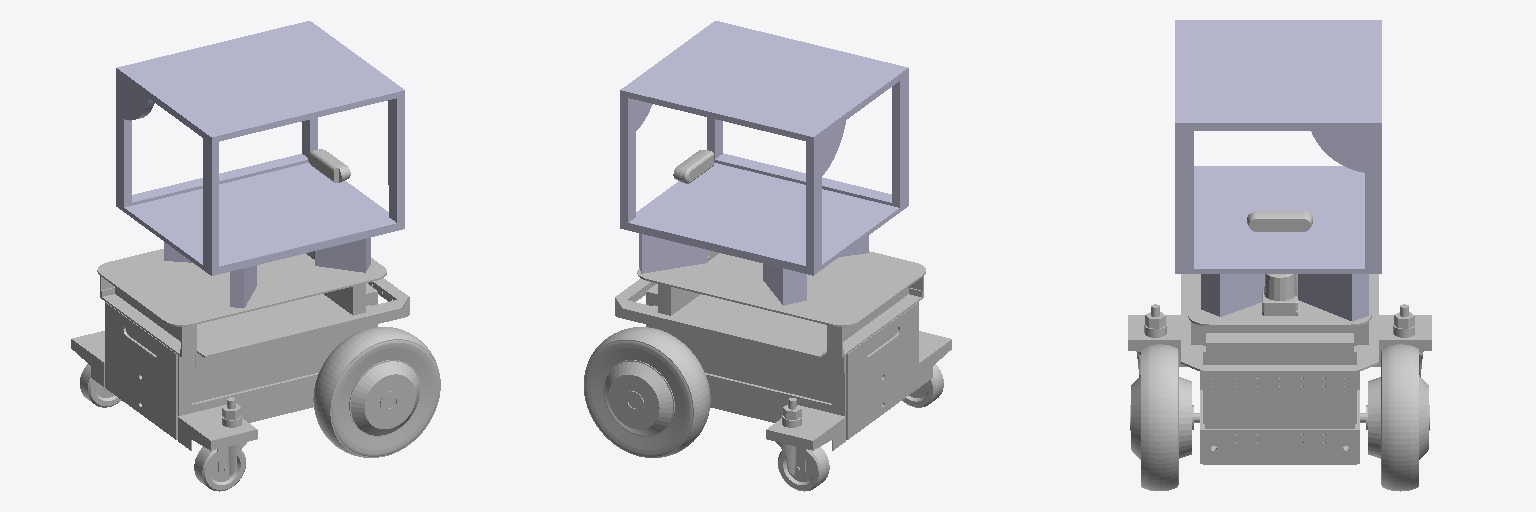
robot.urdf — krytn:
<?xml version="1.0" ?>
<robot name="krytn">
  <!--Generated by CROSS, a ROS Workbench for FreeCAD (https://github.com/galou/freecad.cross)-->
  <link name="base_footprint">
    <visual>
      <!--visual_base_footprint-->
      <origin rpy="0.0 -0.0 0.0" xyz="0.0 0.0 0.0"/>
      <geometry>
        <mesh filename="package://Krytn_tray/meshes/Krytn_tray_ex_visual_base_footprint_.dae"/>
      </geometry>
    </visual>
    <collision>
      <!--collision_base_footprint-->
      <origin rpy="0.0 -0.0 0.0" xyz="0.0 0.0 0.0"/>
      <geometry>
        <mesh filename="package://Krytn_tray/meshes/Krytn_tray_ex_collision_base_footprint_.dae"/>
      </geometry>
    </collision>
    <inertial>
      <mass value="0.0"/>
      <origin rpy="0.0 -0.0 0.0" xyz="0.0 0.0 0.0"/>
      <inertia ixx="0.0" ixy="0.0" ixz="0.0" iyy="0.0" iyz="0.0" izz="0.0"/>
    </inertial>
  </link>
  <link name="base_link">
    <visual>
      <!--visual_base_link/base_link_visual.-->
      <origin rpy="0.0 -0.0 0.0" xyz="-0.11 0.0 -0.029"/>
      <geometry>
        <mesh filename="package://Krytn_tray/meshes/Krytn_tray_ex_magni_body.dae.dae"/>
      </geometry>
    </visual>
    <collision>
      <!--collision_base_link/base_link_collision.-->
      <origin rpy="0.0 -0.0 0.0" xyz="-0.11 0.0 0.051"/>
      <geometry>
        <box size="0.398 0.268 0.16"/>
      </geometry>
    </collision>
    <collision>
      <!--collision_base_link/base_link_collision001.-->
      <origin rpy="0.0 -0.0 0.0" xyz="-0.136 0.0 0.148"/>
      <geometry>
        <box size="0.375 0.268 0.034"/>
      </geometry>
    </collision>
    <collision>
      <!--collision_base_link/base_link_collision002.-->
      <origin rpy="0.0 -0.0 0.0" xyz="-0.279 0.169 0.006"/>
      <geometry>
        <box size="0.1 0.07 0.07"/>
      </geometry>
    </collision>
    <collision>
      <!--collision_base_link/base_link_collision003.-->
      <origin rpy="0.0 -0.0 0.0" xyz="-0.279 -0.169 0.006"/>
      <geometry>
        <box size="0.1 0.07 0.07"/>
      </geometry>
    </collision>
    <inertial>
      <mass value="10.0"/>
      <origin rpy="0.0 -0.0 0.0" xyz="-0.15 0.0 0.03"/>
      <inertia ixx="0.059450809553" ixy="0.0" ixz="0.0" iyy="0.150753273032" iyz="0.0" izz="0.17270409758500002"/>
    </inertial>
  </link>
  <link name="left_wheel">
    <visual>
      <!--visual_left_wheel/left_wheel_visual.-->
      <origin rpy="0.0 -1.5707963267948966 0.0" xyz="-1.57652e-17 0.0 -0.071"/>
      <geometry>
        <mesh filename="package://Krytn_tray/meshes/Krytn_tray_ex_front_wheel.dae.dae"/>
      </geometry>
    </visual>
    <collision>
      <!--collision_left_wheel/left_wheel_collision.-->
      <origin rpy="0.0 -0.0 0.0" xyz="7.32747e-18 0.0 0.033"/>
      <geometry>
        <cylinder length="0.01" radius="0.1"/>
      </geometry>
    </collision>
    <inertial>
      <mass value="1.34"/>
      <origin rpy="-0.0 1.5707963267948966 0.0" xyz="0.0 0.0 0.0"/>
      <inertia ixx="0.003629165215000001" ixy="0.0" ixz="0.0" iyy="0.003629165215000001" iyz="0.0" izz="0.006700000000000001"/>
    </inertial>
  </link>
  <link name="right_wheel">
    <visual>
      <!--visual_right_wheel/right_wheel_visual.-->
      <origin rpy="-0.0 1.5707963267948961 0.0" xyz="1.57652e-17 0.0 0.071"/>
      <geometry>
        <mesh filename="package://Krytn_tray/meshes/Krytn_tray_ex_front_wheel.dae.dae"/>
      </geometry>
    </visual>
    <collision>
      <!--collision_right_wheel/right_wheel_collision.-->
      <origin rpy="0.0 -0.0 0.0" xyz="-7.32747e-18 0.0 -0.033"/>
      <geometry>
        <cylinder length="0.01" radius="0.1"/>
      </geometry>
    </collision>
    <inertial>
      <mass value="1.34"/>
      <origin rpy="-0.0 1.5707963267948966 0.0" xyz="0.0 0.0 0.0"/>
      <inertia ixx="0.003629165215000001" ixy="0.0" ixz="0.0" iyy="0.003629165215000001" iyz="0.0" izz="0.006700000000000001"/>
    </inertial>
  </link>
  <link name="left_caster_wheel">
    <visual>
      <!--visual_left_caster_wheel/left_caster_wheel_visual.-->
      <origin rpy="0.0 -0.0 3.141592653589793" xyz="-0.25 0.169 0.0"/>
      <geometry>
        <mesh filename="package://Krytn_tray/meshes/Krytn_tray_ex_caster_wheel.dae.dae"/>
      </geometry>
    </visual>
    <collision>
      <!--collision_left_caster_wheel/left_caster_wheel_collision.-->
      <geometry>
        <sphere radius="0.04"/>
      </geometry>
    </collision>
    <inertial>
      <mass value="0.0"/>
      <origin rpy="0.0 -0.0 0.0" xyz="0.0 0.0 0.0"/>
      <inertia ixx="0.0" ixy="0.0" ixz="0.0" iyy="0.0" iyz="0.0" izz="0.0"/>
    </inertial>
  </link>
  <link name="right_caster_wheel">
    <visual>
      <!--visual_right_caster_wheel/right_caster_wheel_visual.-->
      <origin rpy="0.0 -0.0 3.141592653589793" xyz="-0.25 -0.169 0.0"/>
      <geometry>
        <mesh filename="package://Krytn_tray/meshes/Krytn_tray_ex_caster_wheel.dae.dae"/>
      </geometry>
    </visual>
    <collision>
      <!--collision_right_caster_wheel/right_caster_wheel_collision.-->
      <geometry>
        <sphere radius="0.04"/>
      </geometry>
    </collision>
    <inertial>
      <mass value="0.0"/>
      <origin rpy="0.0 -0.0 0.0" xyz="0.0 0.0 0.0"/>
      <inertia ixx="0.0" ixy="0.0" ixz="0.0" iyy="0.0" iyz="0.0" izz="0.0"/>
    </inertial>
  </link>
  <link name="realsense_link">
    <visual>
      <!--visual_realsense_link/realsense_link_visual.-->
      <origin rpy="0.0 -0.0 1.5707963267948966" xyz="0.0 0.0 0.0"/>
      <geometry>
        <mesh filename="package://Krytn_tray/meshes/Krytn_tray_ex_realsense.dae.dae"/>
      </geometry>
    </visual>
    <collision>
      <!--collision_realsense_link/realsense_link_collision.-->
      <origin rpy="0.0 -0.0 1.5707963267948966" xyz="0.0 0.0 0.0"/>
      <geometry>
        <mesh filename="package://Krytn_tray/meshes/Krytn_tray_ex_realsense.dae.dae"/>
      </geometry>
    </collision>
    <inertial>
      <mass value="0.06"/>
      <origin rpy="0.0 -0.0 0.0" xyz="-0.15 0.0 0.03"/>
      <inertia ixx="5.04999798e-05" ixy="0.0" ixz="0.0" iyy="2.499999e-06" iyz="0.0" izz="5.19999792e-05"/>
    </inertial>
  </link>
  <link name="lidar_2d_link">
    <visual>
      <!--visual_lidar_2d_link/lidar_2d_link_visual.-->
      <origin rpy="0.0 -0.0 0.0" xyz="0.0 0.0 0.0"/>
      <geometry>
        <mesh filename="package://Krytn_tray/meshes/Krytn_tray_ex_lidar_2d_v1.dae.dae"/>
      </geometry>
    </visual>
    <collision>
      <!--collision_lidar_2d_link/lidar_2d_link_collision.-->
      <origin rpy="0.0 -0.0 0.0" xyz="0.0 0.0 0.0"/>
      <geometry>
        <box size="0.05001062 0.05001062 0.035003035"/>
      </geometry>
    </collision>
    <collision>
      <!--collision_lidar_2d_link/lidar_2d_link_collision001.-->
      <origin rpy="0.0 -0.0 0.0" xyz="0.0 0.0 0.0"/>
      <geometry>
        <cylinder length="0.035003035" radius="0.02"/>
      </geometry>
    </collision>
    <inertial>
      <mass value="0.13"/>
      <origin rpy="0.0 -0.0 0.0" xyz="-0.15 0.0 0.03"/>
      <inertia ixx="0.0027180822461000003" ixy="0.0" ixz="0.0" iyy="3.6833318600000004e-05" iyz="0.0" izz="0.0027354155725000003"/>
    </inertial>
  </link>
  <link name="Krytn_tray">
    <visual>
      <!--Part001/Body001.-->
      <origin rpy="0.0 -0.0 0.0" xyz="0.0 0.0 0.0"/>
      <geometry>
        <mesh filename="package://Krytn_tray/meshes/Krytn_tray_ex_Krytn_tray.dae"/>
      </geometry>
    </visual>
    <collision>
      <!--Part001/Body001.-->
      <origin rpy="0.0 -0.0 0.0" xyz="0.0 0.0 0.0"/>
      <geometry>
        <mesh filename="package://Krytn_tray/meshes/Krytn_tray_ex_Krytn_tray.dae"/>
      </geometry>
    </collision>
    <inertial>
      <mass value="0.0"/>
      <origin rpy="0.0 -0.0 0.0" xyz="0.0 0.0 0.0"/>
      <inertia ixx="0.0" ixy="0.0" ixz="0.0" iyy="0.0" iyz="0.0" izz="0.0"/>
    </inertial>
  </link>
  <joint name="base_footprint_joint" type="fixed">
    <parent link="base_footprint"/>
    <child link="base_link"/>
    <origin rpy="0.0 -0.0 0.0" xyz="0.0 0.0 0.1"/>
  </joint>
  <joint name="left_wheel_joint" type="continuous">
    <parent link="base_link"/>
    <child link="left_wheel"/>
    <origin rpy="-1.5707963267948966 1.5707963267948963 0.0" xyz="0.0 0.163 0.0"/>
    <axis xyz="0 0 1"/>
  </joint>
  <joint name="right_wheel_joint" type="continuous">
    <parent link="base_link"/>
    <child link="right_wheel"/>
    <origin rpy="-1.5707963267948966 1.5707963267948963 0.0" xyz="0.0 -0.163 0.0"/>
    <axis xyz="0 0 1"/>
  </joint>
  <joint name="left_caster_wheel_joint" type="fixed">
    <parent link="base_link"/>
    <child link="left_caster_wheel"/>
    <origin rpy="0.0 -0.0 0.0" xyz="0.0 0.0 0.0"/>
  </joint>
  <joint name="right_caster_wheel_joint" type="fixed">
    <parent link="base_link"/>
    <child link="right_caster_wheel"/>
    <origin rpy="0.0 -0.0 0.0" xyz="0.0 0.0 0.0"/>
  </joint>
  <joint name="realsense_joint" type="fixed">
    <parent link="base_link"/>
    <child link="realsense_link"/>
    <origin rpy="0.0 -0.0 0.0" xyz="0.0 0.0 0.3"/>
  </joint>
  <joint name="lidar_2d_joint" type="fixed">
    <parent link="base_link"/>
    <child link="lidar_2d_link"/>
    <origin rpy="0.0 -0.0 0.0" xyz="0.0 0.0 0.15"/>
  </joint>
  <joint name="tray_joint" type="fixed">
    <parent link="base_link"/>
    <child link="Krytn_tray"/>
    <origin rpy="0.0 -0.0 1.5707963267948966" xyz="0.06 0.0 0.165"/>
  </joint>
</robot>

--- Render facts (derived) ---
The picture shows the robot from 3 angles, left to right: view 1: azimuth 30°, elevation 25°; view 2: azimuth 150°, elevation 25°; view 3: azimuth 270°, elevation 25°; orthographic projection.
Robot: krytn — 9 links, 8 joints (2 continuous, 6 fixed); root link base_footprint; default pose: all joints at 0.
Links seen in each view (by area): view 1: Krytn_tray, base_link, right_wheel, right_caster_wheel, realsense_link, left_caster_wheel; view 2: Krytn_tray, base_link, left_wheel, left_caster_wheel, realsense_link, right_caster_wheel; view 3: Krytn_tray, base_link, left_wheel, right_wheel, lidar_2d_link, realsense_link, right_caster_wheel, left_caster_wheel.
Link boxes in pixels (left/top/right/bottom): Krytn_tray: left=116, top=21, right=404, bottom=307; base_link: left=71, top=249, right=409, bottom=450; right_wheel: left=313, top=327, right=440, bottom=457; right_caster_wheel: left=194, top=397, right=246, bottom=491; realsense_link: left=308, top=149, right=350, bottom=182; left_caster_wheel: left=80, top=364, right=121, bottom=407; Krytn_tray: left=620, top=21, right=908, bottom=305; base_link: left=615, top=251, right=951, bottom=450; left_wheel: left=584, top=327, right=710, bottom=457; left_caster_wheel: left=776, top=398, right=829, bottom=491; realsense_link: left=673, top=150, right=713, bottom=183; right_caster_wheel: left=902, top=364, right=943, bottom=407; Krytn_tray: left=1175, top=20, right=1381, bottom=321; base_link: left=1128, top=274, right=1431, bottom=464; left_wheel: left=1360, top=344, right=1429, bottom=491; right_wheel: left=1130, top=344, right=1199, bottom=490; lidar_2d_link: left=1262, top=274, right=1299, bottom=315; realsense_link: left=1247, top=211, right=1312, bottom=231; right_caster_wheel: left=1137, top=304, right=1166, bottom=376; left_caster_wheel: left=1393, top=304, right=1422, bottom=376.
Size in the robot's own frame: 0.423 by 0.412 by 0.5694 metres.
8 mesh visuals loaded from 7 distinct referenced files (6 Collada DAE); not drawn: 1 (file found but could not be loaded).
